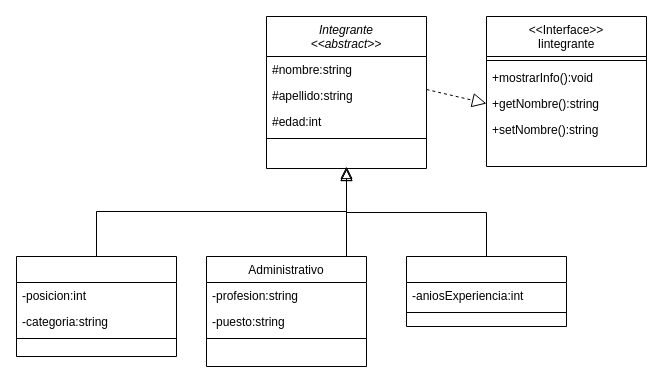
Image size: 663x383. Some labels were removed from this diagram. The box of each missing label's shape, as (x1, y1, x2, y2) in pixels:
Entrenador: (406, 256, 566, 326)
Jugador: (16, 256, 176, 356)
